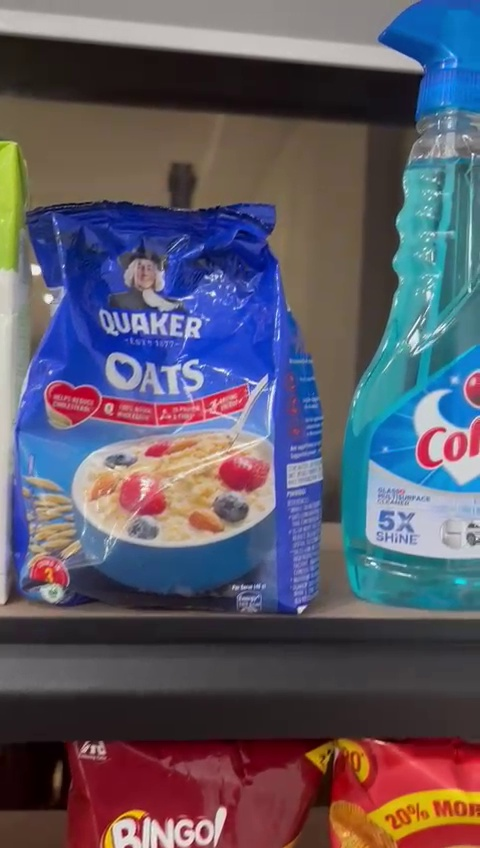Quaker Oats: (20, 201, 324, 605)
